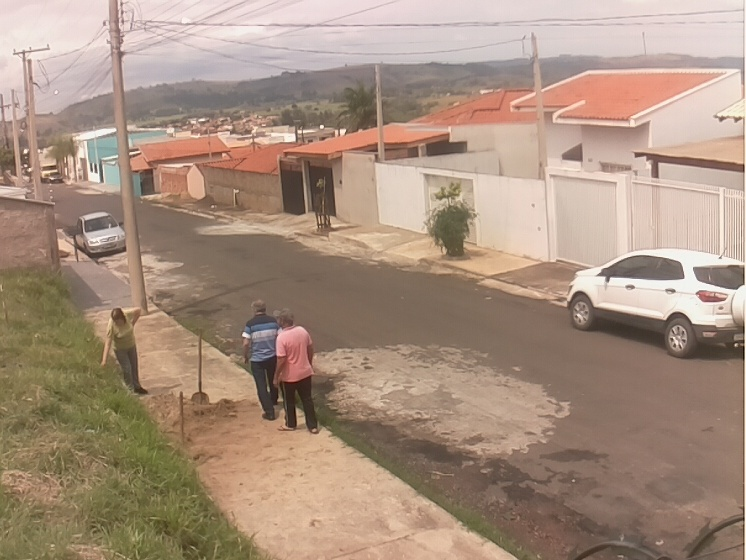person: (270, 310, 321, 434), (240, 299, 282, 421), (100, 306, 149, 395)
